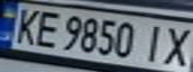0: (112, 19, 142, 60)
5: (96, 17, 121, 56)
8: (75, 15, 100, 55)
9: (54, 12, 84, 52)
E: (30, 8, 63, 48)
I: (139, 21, 172, 64)
K: (6, 6, 45, 46)
X: (157, 24, 193, 67)
